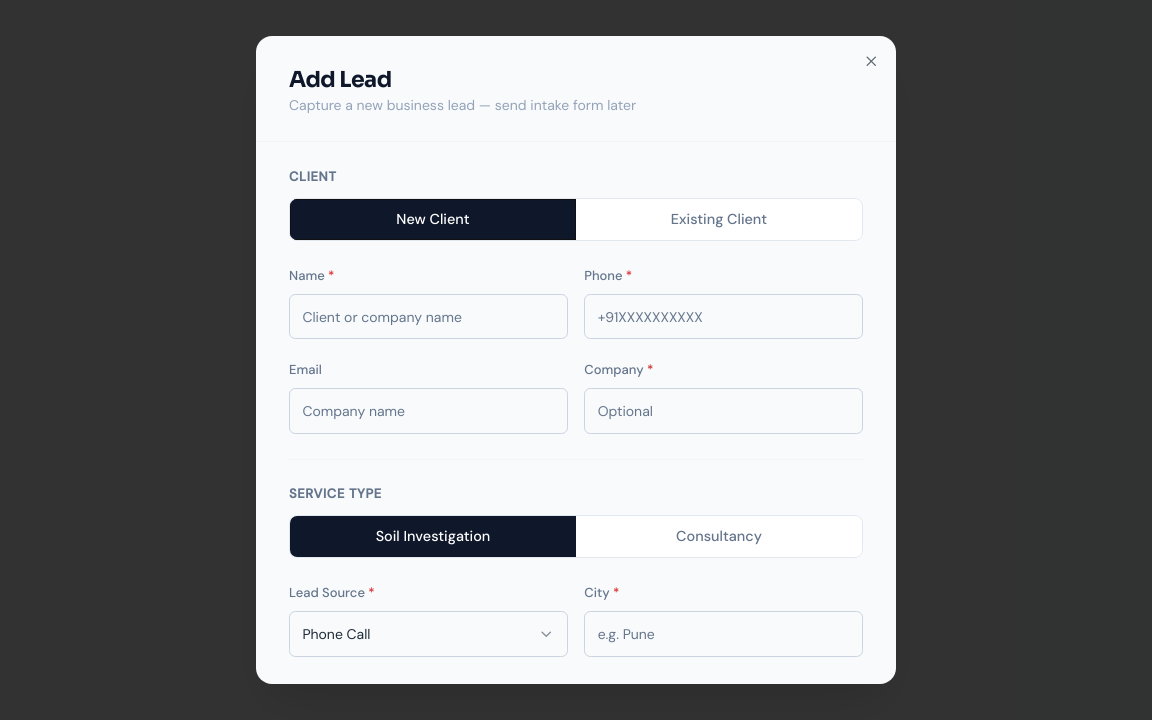
Test: AddLeadDialog — duplicate phone › asks instead of silently attaching when the number is already on file
Step 1. Type "Priya Desai" into the field with placeholder "Client or company name" → (428, 317), box 289,294 -> 568,339
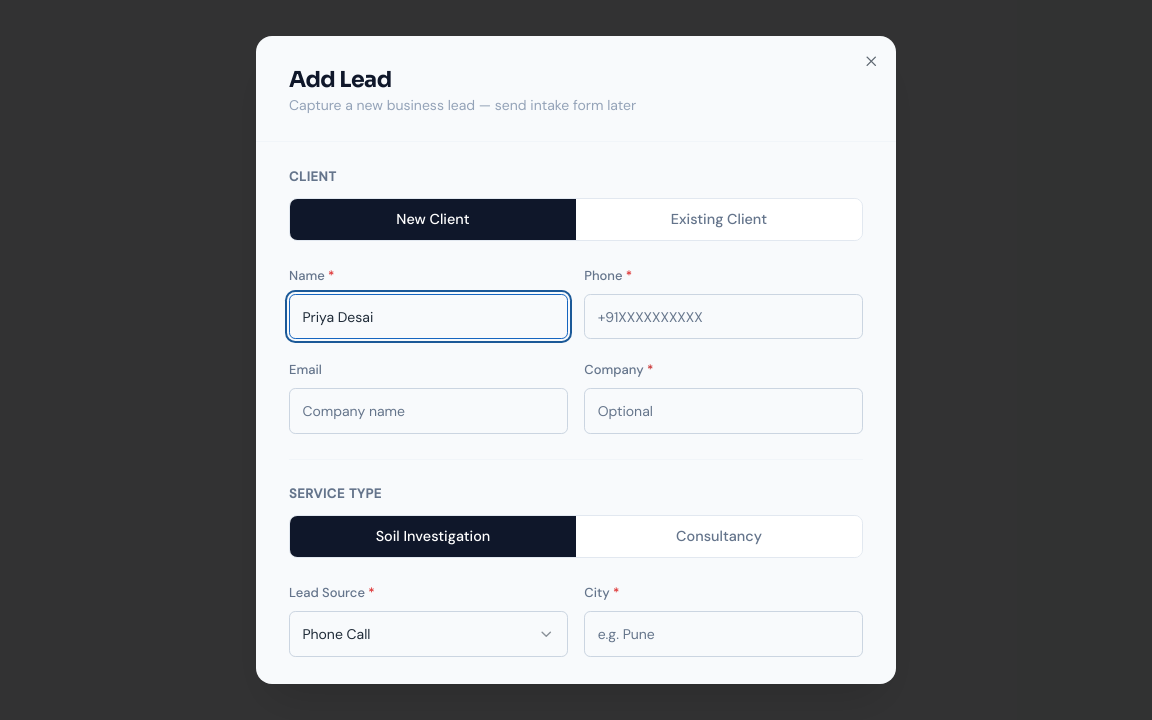
Step 2. Type "9876543210" into the field with placeholder "+91XXXXXXXXXX" → (724, 317), box 584,294 -> 863,339
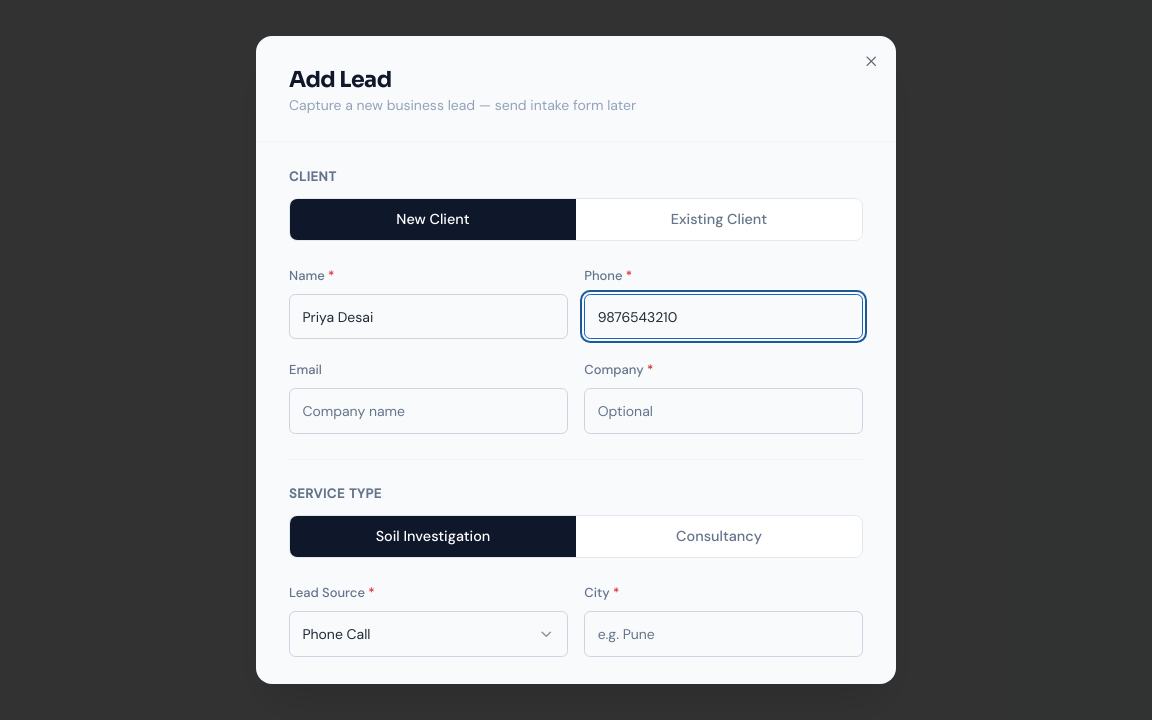
Step 3. Type "XYZ Constructions" into the field with placeholder "Optional" → (724, 411), box 584,388 -> 863,434
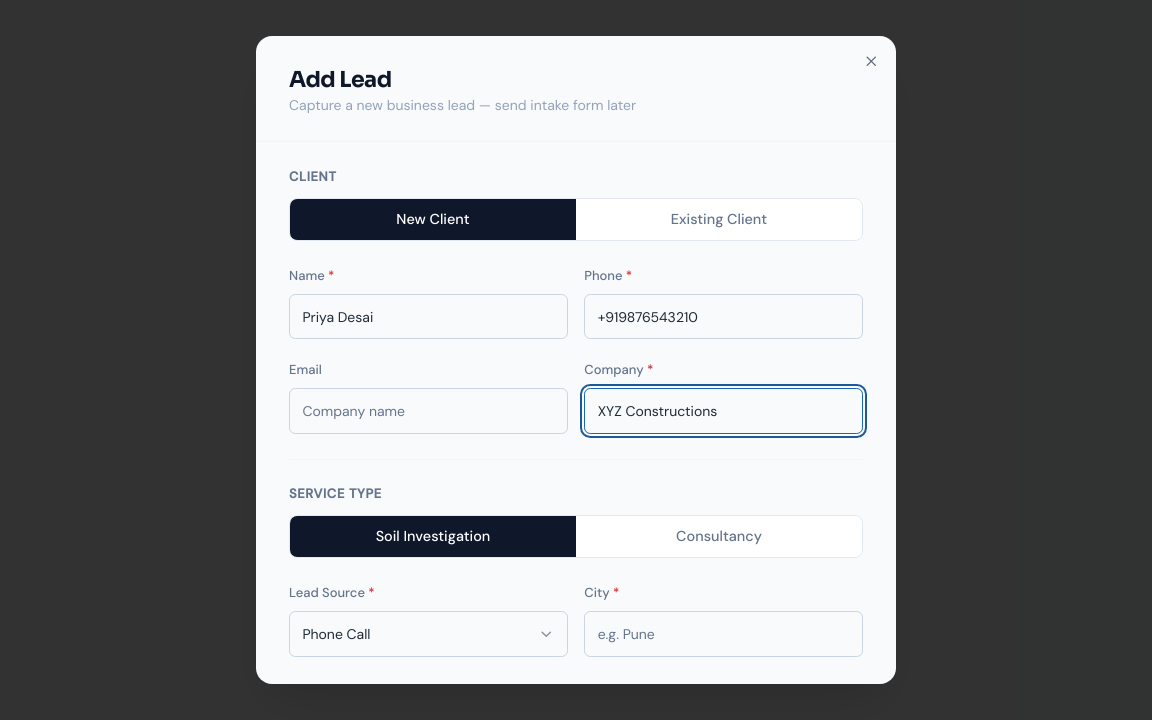
Step 4. Type "Mumbai" into the field with placeholder "e.g. Pune" → (724, 634), box 584,611 -> 863,656
(page scrolled)
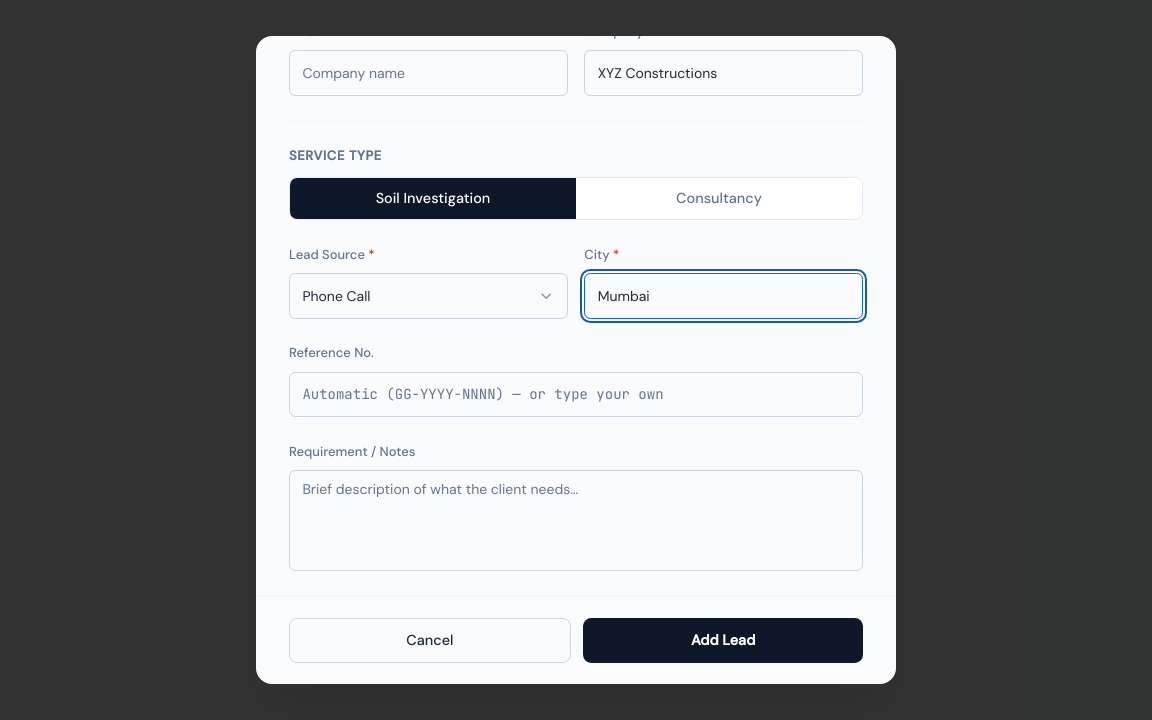
Step 5. Click the button "Add Lead" → (723, 640), box 583,618 -> 863,663
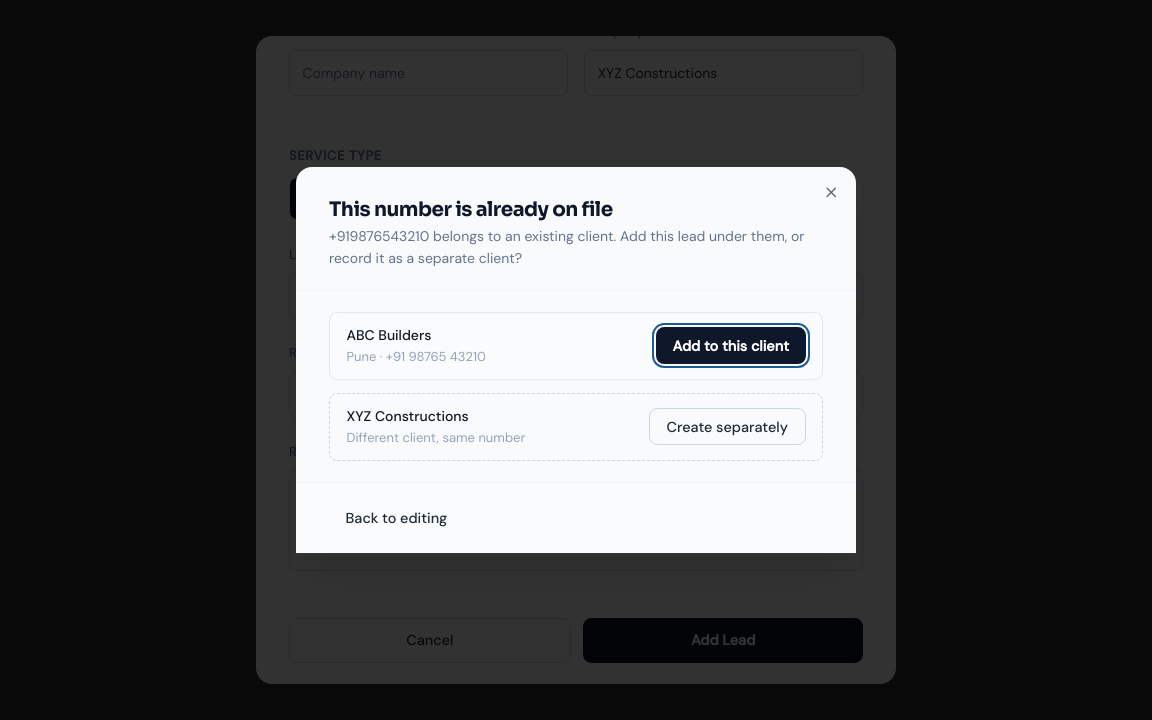
Expected: the heading "This number is already on file" is shown, 329,197 -> 613,222
Expected: the text "ABC Builders" is shown, 346,326 -> 432,344
Expected: the button "Add to this client" is shown, 656,327 -> 806,364
